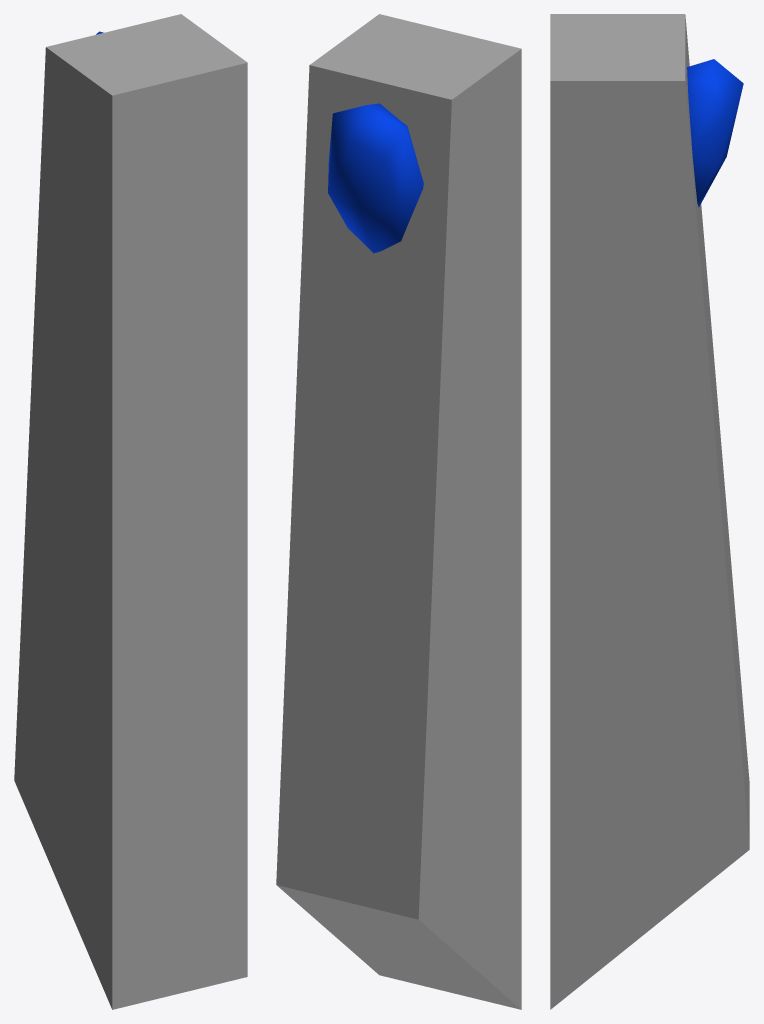
File: pilar 1.fbx
3 renders of one model, left to right at view 1: azimuth 30°, elevation 25°; view 2: azimuth 150°, elevation 25°; view 3: azimuth 270°, elevation 25°, orthographic. The views are drawn at different scales.
Visible parts, largest first — view 1: pCube1; view 2: pCube1, pCube2; view 3: pCube1, pCube2.
Boxes of the visible parts, left/top/right/bottom form: pCube1: left=14, top=14, right=247, bottom=1009; pCube1: left=276, top=14, right=521, bottom=1009; pCube2: left=328, top=103, right=423, bottom=253; pCube1: left=550, top=14, right=749, bottom=1009; pCube2: left=687, top=59, right=743, bottom=207.
Size of the model in its own units: 1.5 by 9.69 by 1.88.
